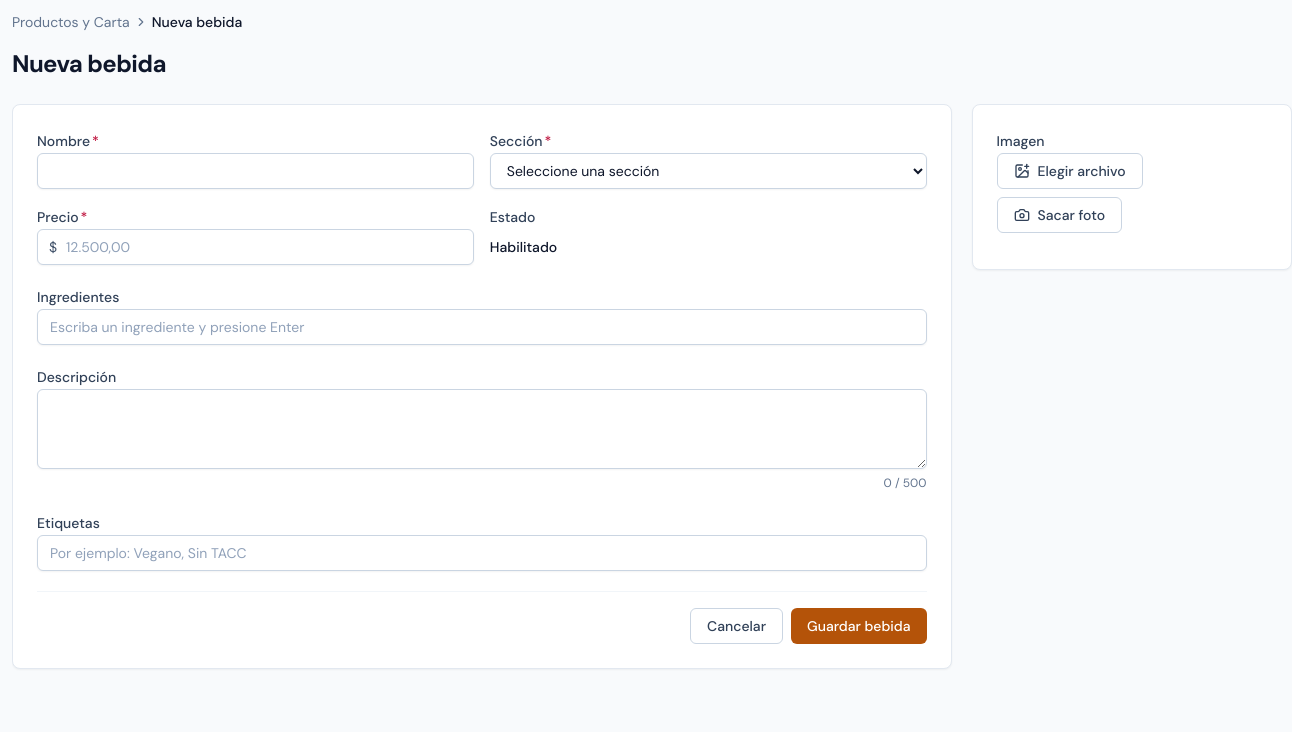
Test: ProductoNuevoPage BEBIDA: validaciones › advierte el 409 de nombre repetido en el campo y no sale de la página (CA 3)
Type " Milanesa " into the field labelled "Nombre*" at {"x": 255, "y": 171}, box x1=37 y1=153 x2=474 y2=189
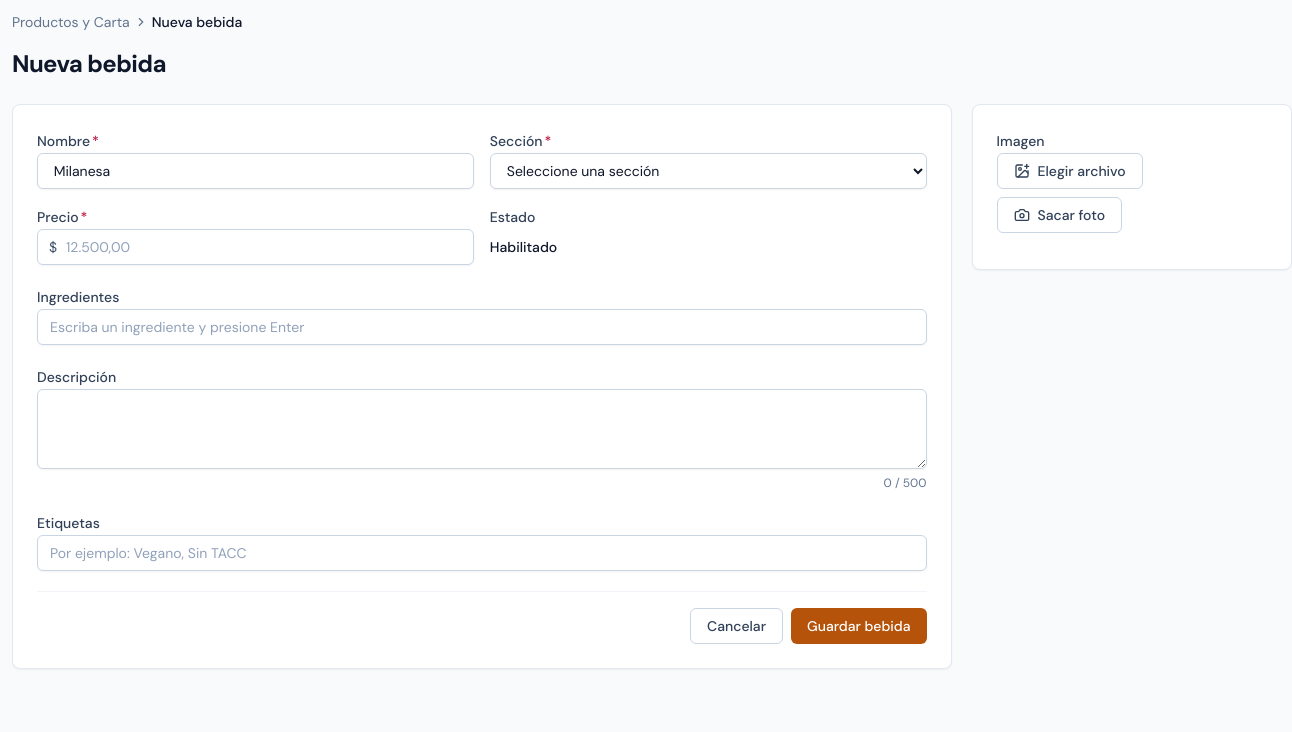
Select "Platos principales" in the dropdown labelled "Sección*" at {"x": 708, "y": 171}, box x1=490 y1=153 x2=927 y2=189
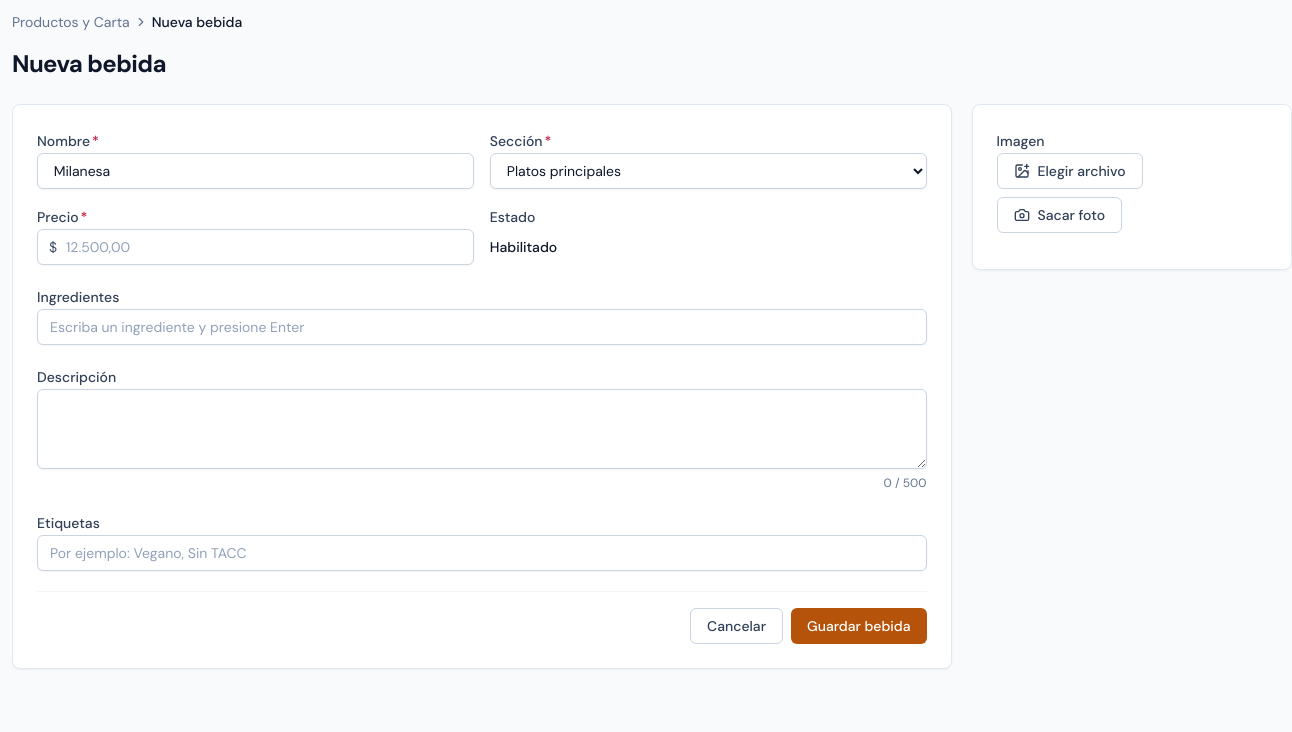
Type "12.500,50" into the field labelled "Precio*" at {"x": 255, "y": 247}, box x1=37 y1=229 x2=474 y2=265
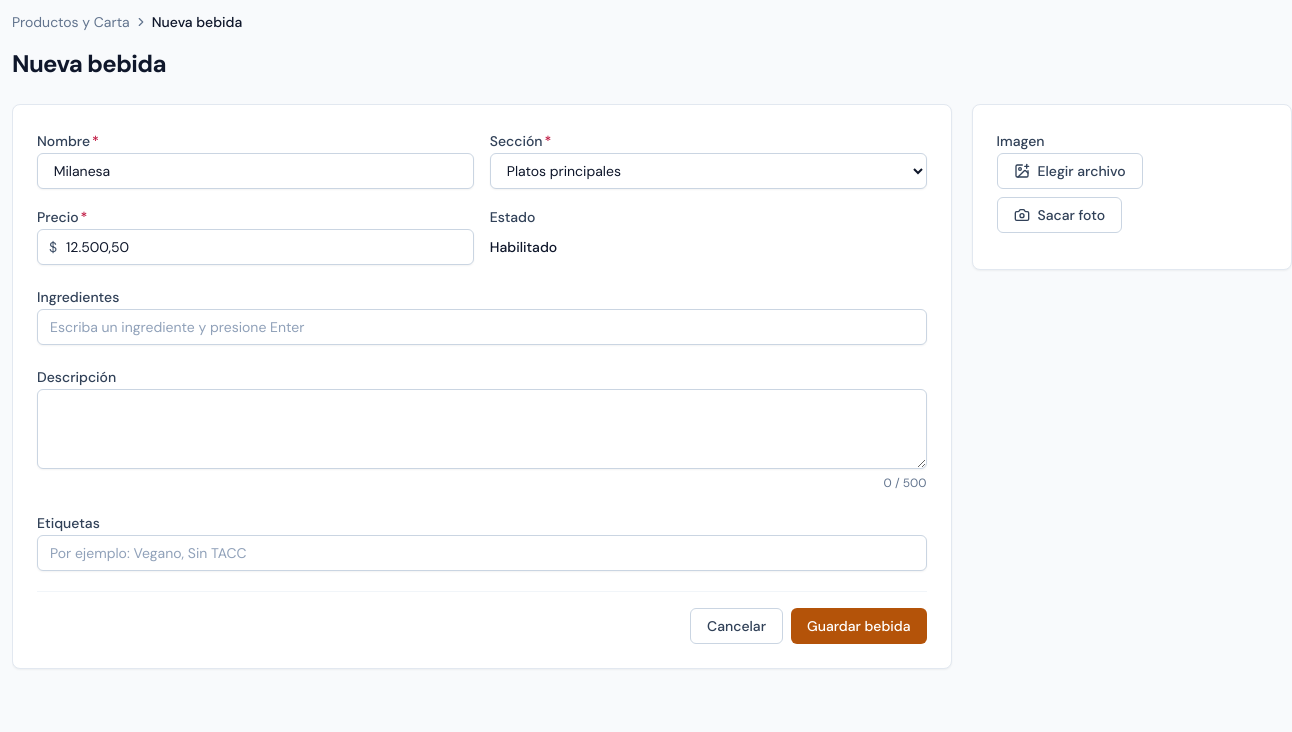
Type "Carne" into the field labelled "Ingredientes" at {"x": 482, "y": 327}, box x1=37 y1=309 x2=926 y2=345
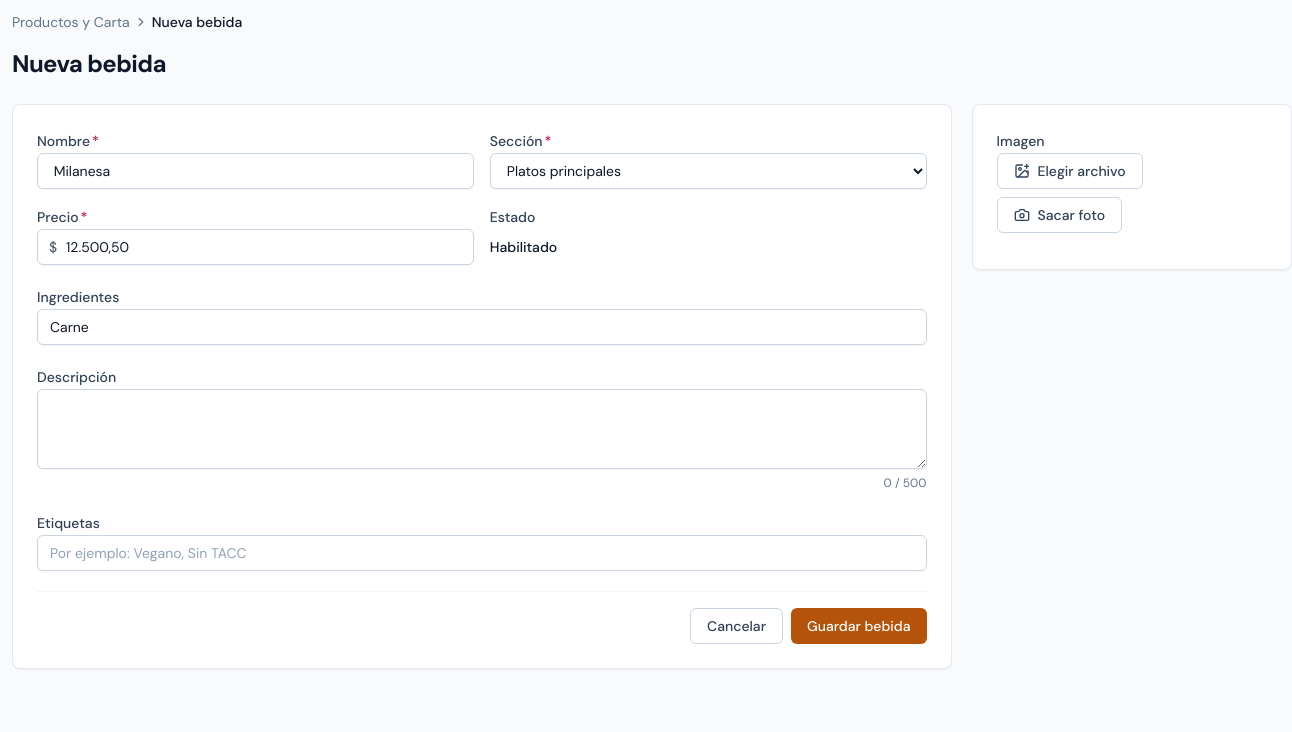
Press Enter in the field labelled "Ingredientes", box x1=37 y1=309 x2=926 y2=345
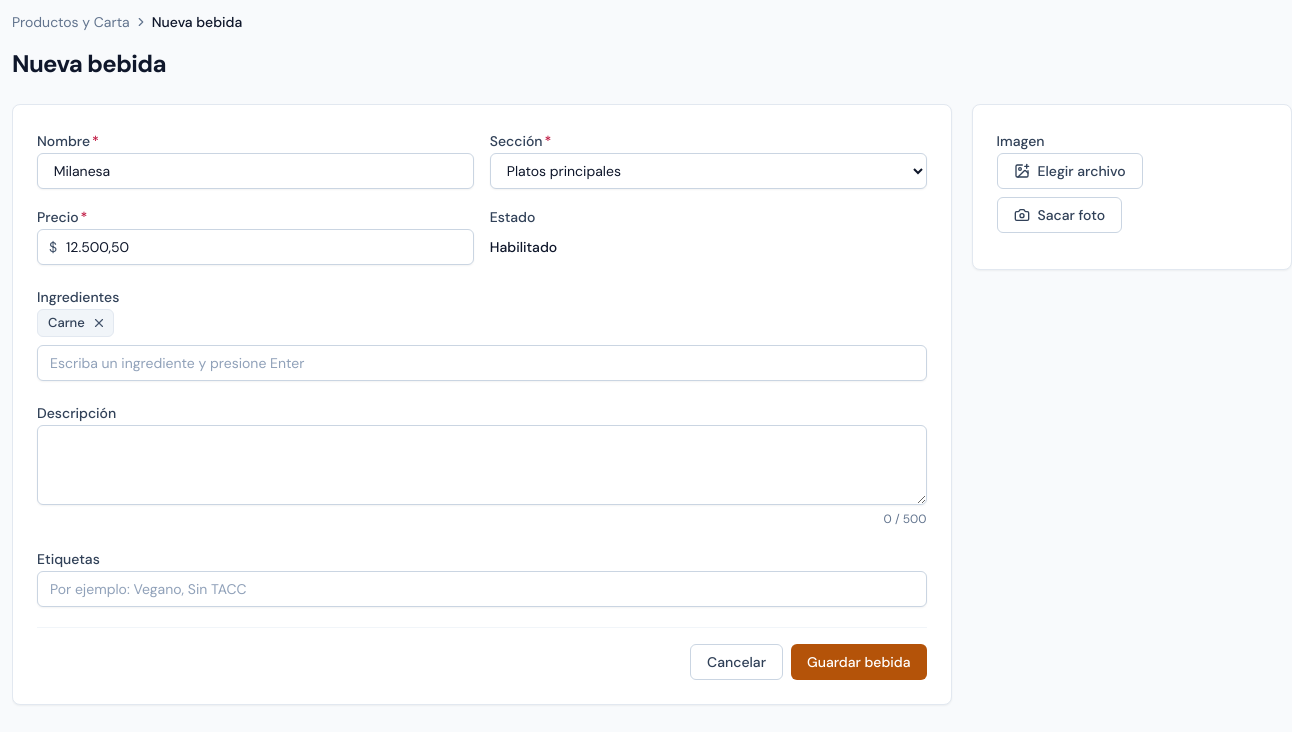
Click the button "Guardar bebida" at {"x": 859, "y": 662}, box x1=791 y1=644 x2=927 y2=680
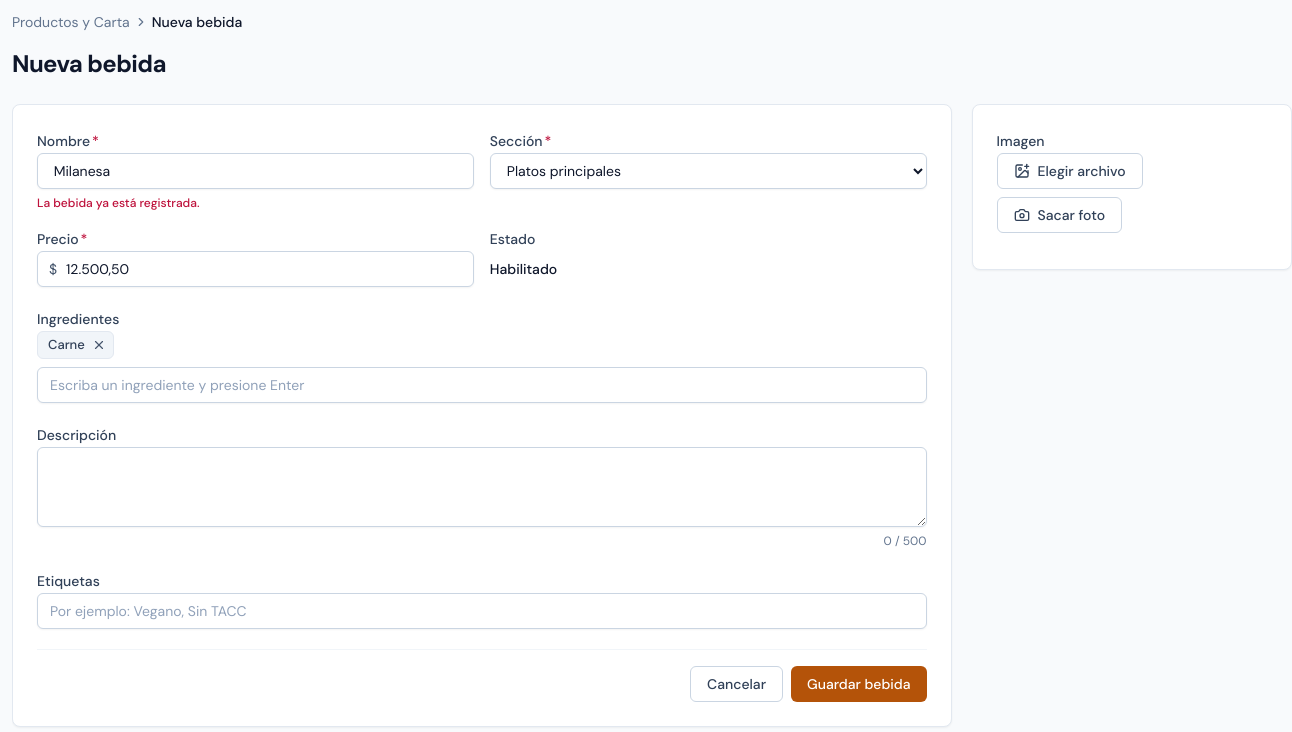
Expected: the text "La bebida ya está registrada." is shown, x1=37 y1=195 x2=200 y2=211
